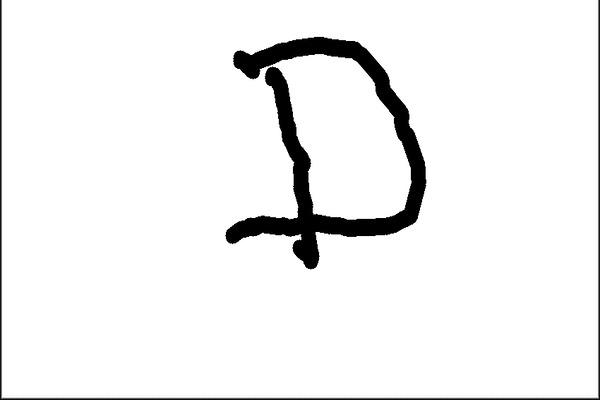D: (221, 34, 432, 272)
